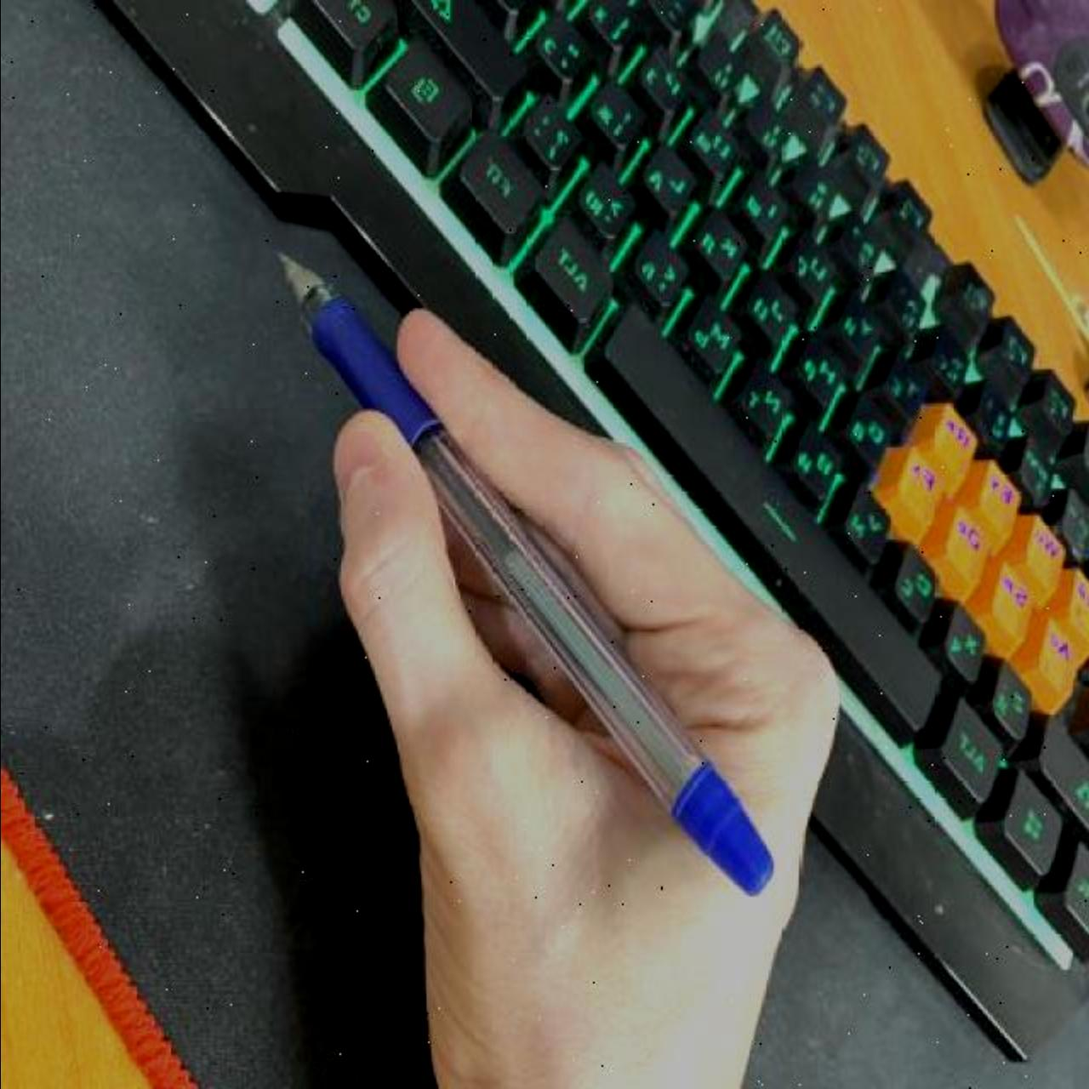pen: (272, 243, 781, 895)
